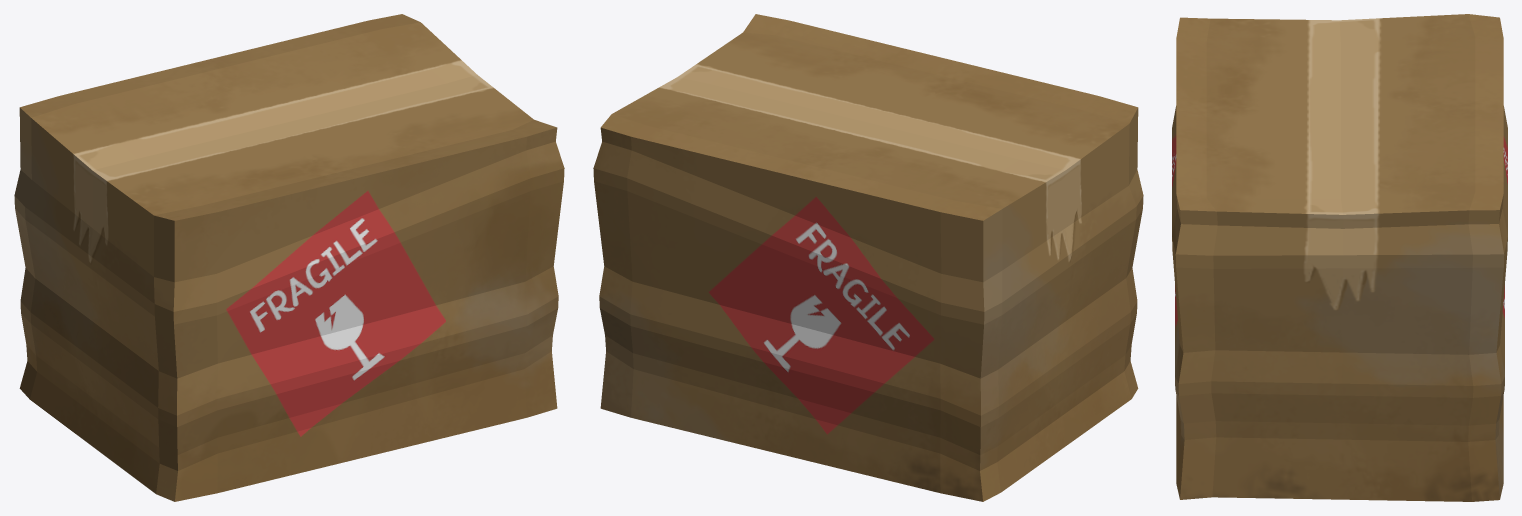
The model's file is Supply_Box.fbx.
The picture shows the model from 3 angles, left to right: view 1: azimuth 30°, elevation 25°; view 2: azimuth 150°, elevation 25°; view 3: azimuth 270°, elevation 25°; orthographic projection. The views are drawn at different scales.
Visible parts, largest first — view 1: box; view 2: box; view 3: box.
Part boxes in pixels (x1,y1,x2,y2): box: (14, 14, 564, 501); box: (593, 14, 1143, 501); box: (1172, 14, 1507, 501).
Bounding box in the file's own units: 298 × 201 × 210.
1 material, 1 textured.
